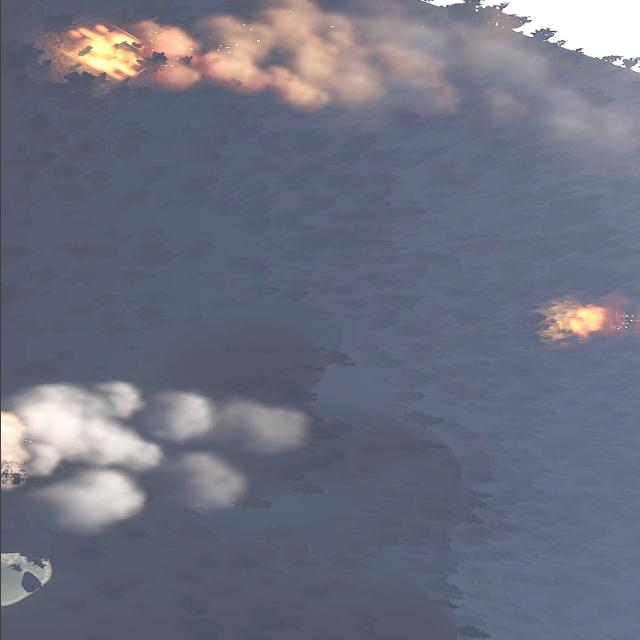fire: (66, 23, 140, 79), (560, 305, 612, 337)
smoke: (141, 0, 640, 141), (0, 378, 308, 530)
